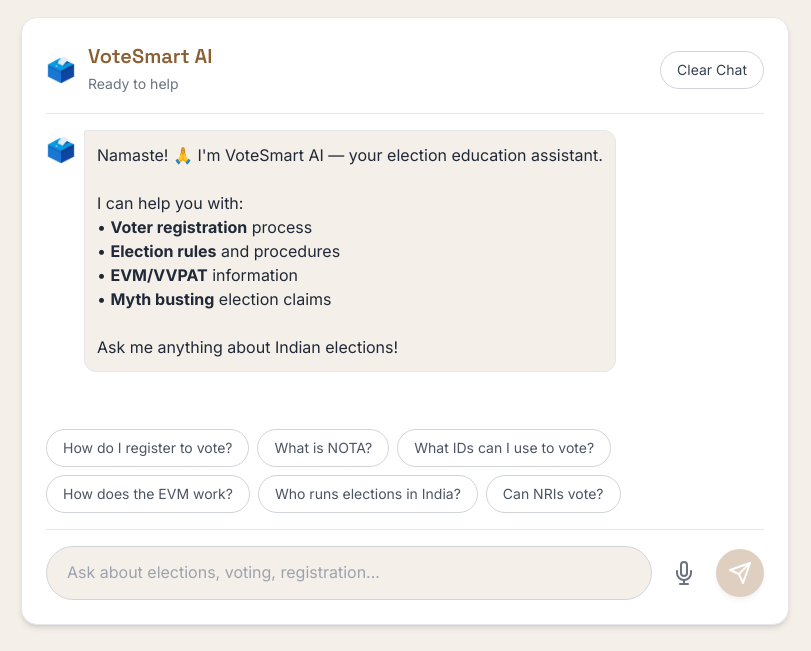
it: ChatAssistant Component › enables send button when text is entered
Type "How to vote?" into the field with placeholder "Ask about elections, voting, registration...".
click(349, 573); type("How to vote?")  # box [46,546,652,600]
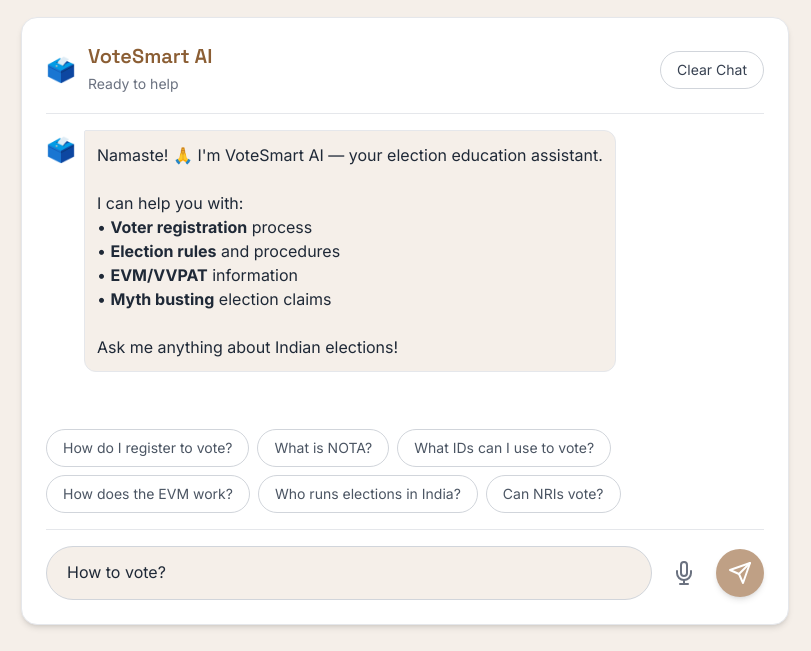
Result: the button named "Send message" is enabled at [716,549,764,597]
